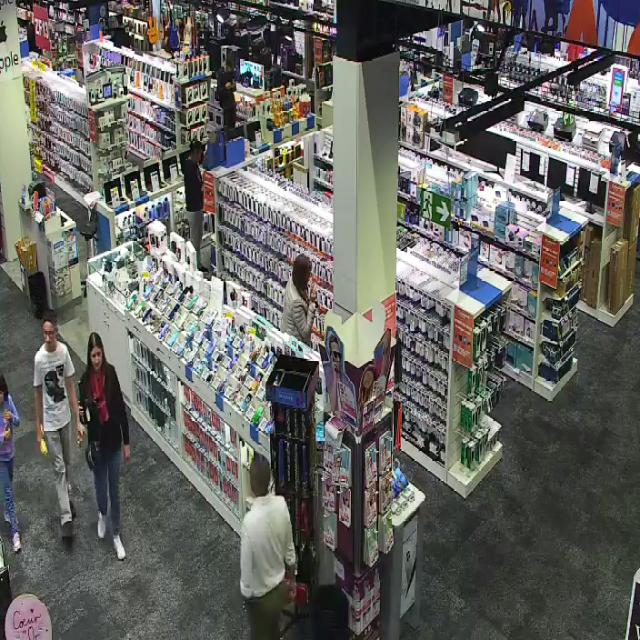article: (40, 439, 47, 456)
hands: (37, 430, 45, 451), (123, 445, 131, 462), (307, 288, 316, 302), (76, 424, 86, 436), (4, 428, 13, 441), (4, 409, 12, 420)
person: (78, 332, 129, 558), (240, 454, 295, 639), (34, 312, 76, 541), (0, 373, 21, 551), (280, 254, 315, 347)
